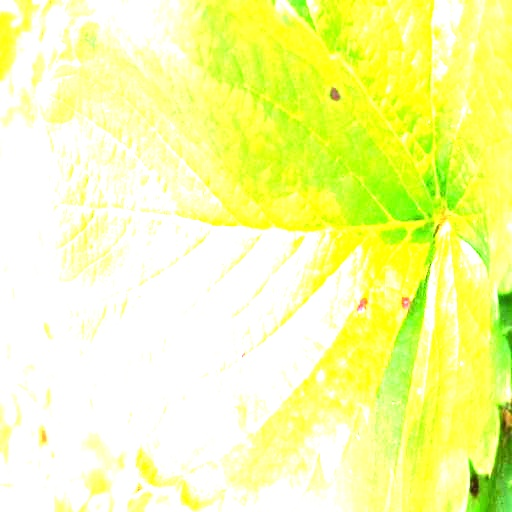Leaf Spot: (32, 0, 443, 511)
